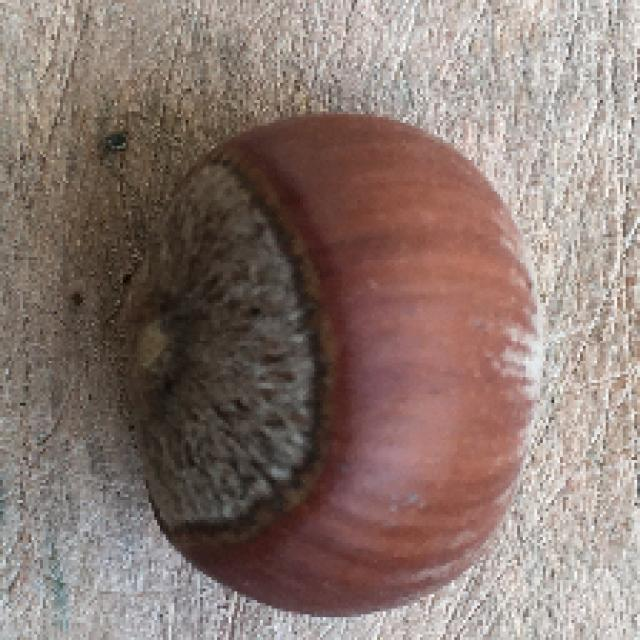damagedHazelnut: (128, 110, 546, 614)
